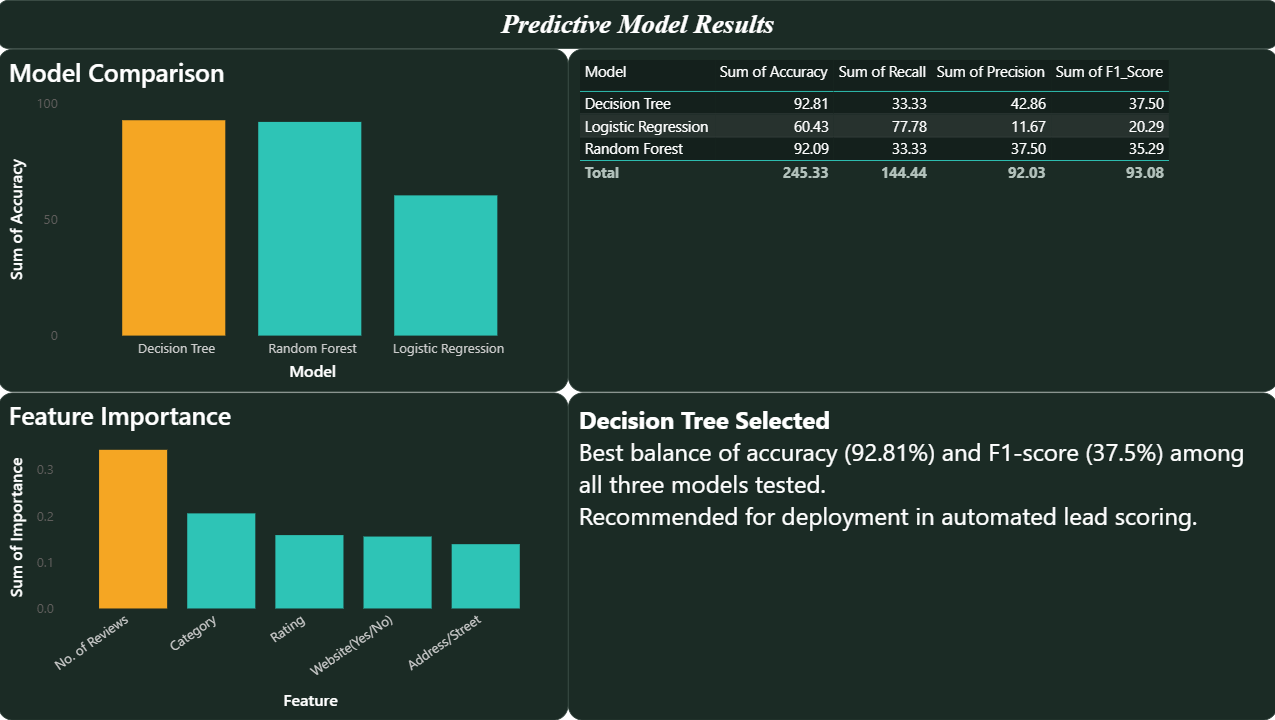

What the dashboard file says about the page in this screenshot:
{"tool":"powerbi","page":{"name":"Page 2","canvas":[1280,720],"ordinal":1},"visuals":[{"type":"textbox","box":[0,0,1279.7,48.6],"z":0},{"type":"clusteredColumnChart","title":"Model Comparison","fields":{"Category":["Model_Results.Model"],"Y":["Sum(Model_Results.Accuracy)"]},"box":[0,48.6,570.3,343.2],"z":1000},{"type":"clusteredColumnChart","title":"Feature Importance","fields":{"Category":["Feature_Importance.Feature"],"Y":["Sum(Feature_Importance.Importance)"]},"box":[0,391.9,570.3,328.4],"z":2000},{"type":"tableEx","fields":{"Values":["Model_Results.Model","Sum(Model_Results.Accuracy)","Sum(Model_Results.Recall)","Sum(Model_Results.Precision)","Sum(Model_Results.F1_Score)"]},"box":[570,49,710,343],"z":3000},{"type":"textbox","box":[570.3,391.9,709.5,328.4],"z":4000}]}

Visuals, with their boxes in screenshot pixels (x1, y1, x2, y2), scaled from the page's 1280x720 canvas onto the 1275x720 screenshot:
textbox: bbox=(0, 0, 1274, 49)
"Model Comparison" clusteredColumnChart: bbox=(0, 49, 568, 392)
"Feature Importance" clusteredColumnChart: bbox=(0, 392, 568, 719)
tableEx - Model_Results.Model x Sum(Model_Results.Accuracy): bbox=(568, 49, 1274, 392)
textbox: bbox=(568, 392, 1274, 719)
